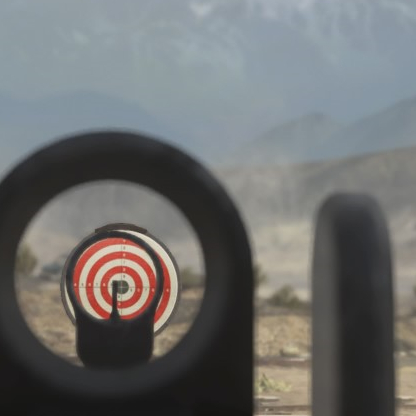target: (60, 225, 181, 317)
